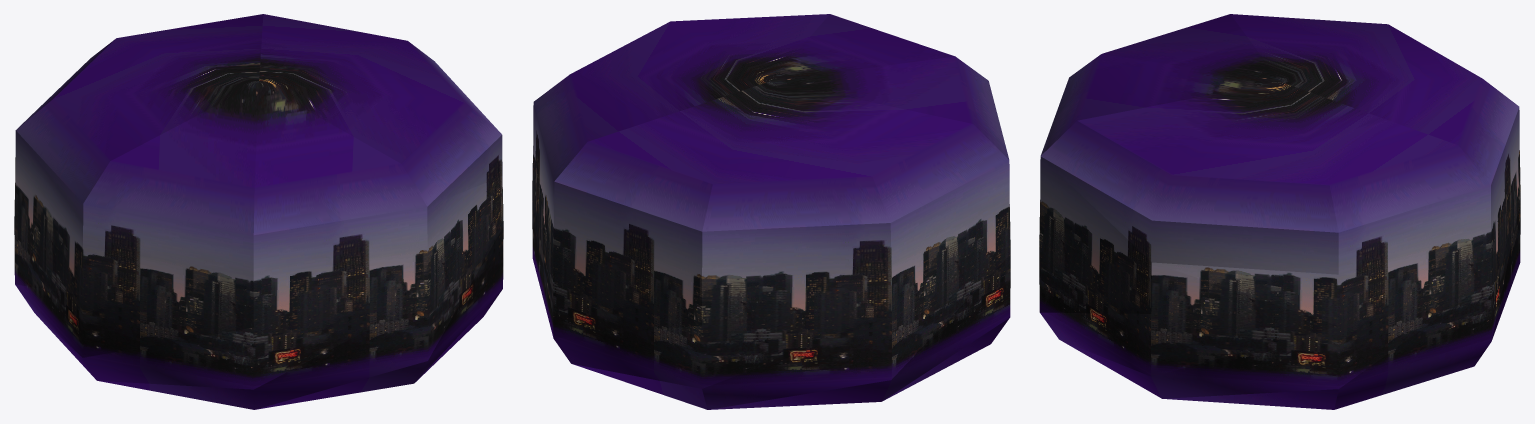
File: STG0100_D_23.fbx
3 views of the same model, side by side, from view 1: azimuth 30°, elevation 25°; view 2: azimuth 150°, elevation 25°; view 3: azimuth 270°, elevation 25° (orthographic).
Parts seen in each view (by area): view 1: STG0100_D_23_s0100_nn026; view 2: STG0100_D_23_s0100_nn026; view 3: STG0100_D_23_s0100_nn026.
Part boxes in pixels (x1,y1,x2,y2): STG0100_D_23_s0100_nn026: (14, 14, 503, 409); STG0100_D_23_s0100_nn026: (532, 14, 1010, 409); STG0100_D_23_s0100_nn026: (1039, 14, 1520, 409).
Bounding box in the file's own units: 20601 × 11884 × 20601.
